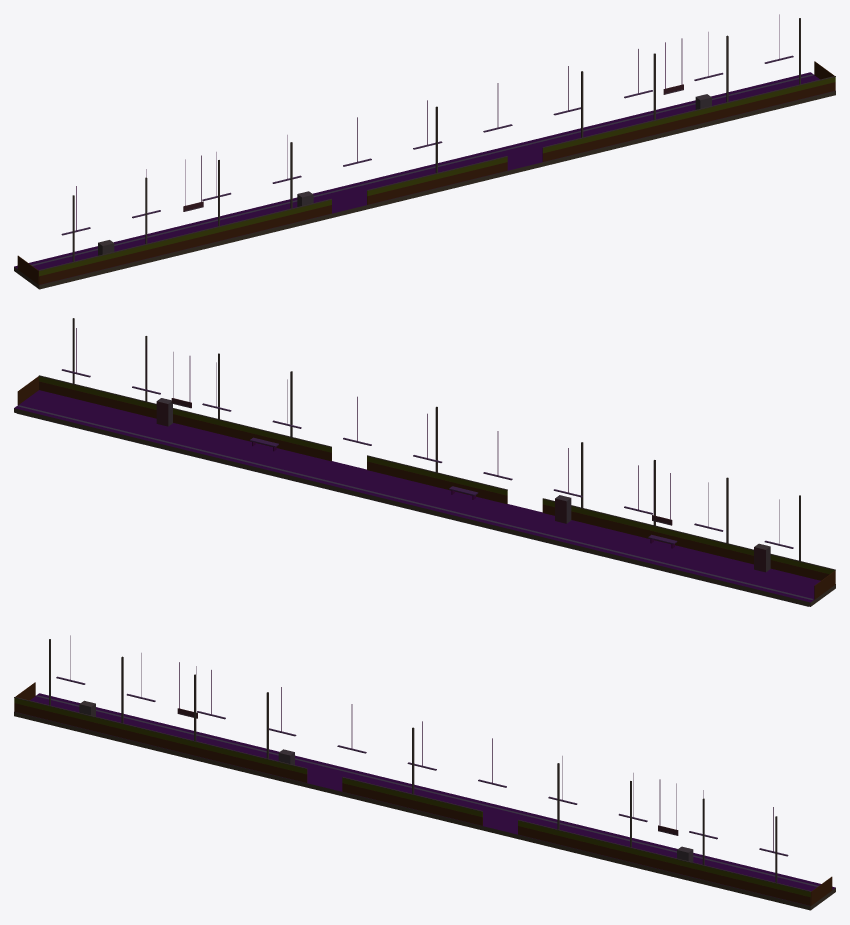
File: monorail_platform_n.glb
3 renders of one model, top to bottom at view 1: azimuth 30°, elevation 25°; view 2: azimuth 150°, elevation 25°; view 3: azimuth 330°, elevation 25°, orthographic.
Parts seen in each view (by area): view 1: monorail_platform_n; view 2: monorail_platform_n; view 3: monorail_platform_n.
Part boxes in pixels (x1=…): monorail_platform_n: x1=14, y1=14, x2=835, y2=289; monorail_platform_n: x1=14, y1=318, x2=835, y2=606; monorail_platform_n: x1=14, y1=635, x2=835, y2=910.
Size of the model in its own units: 68.05 by 6.97 by 3.75.
